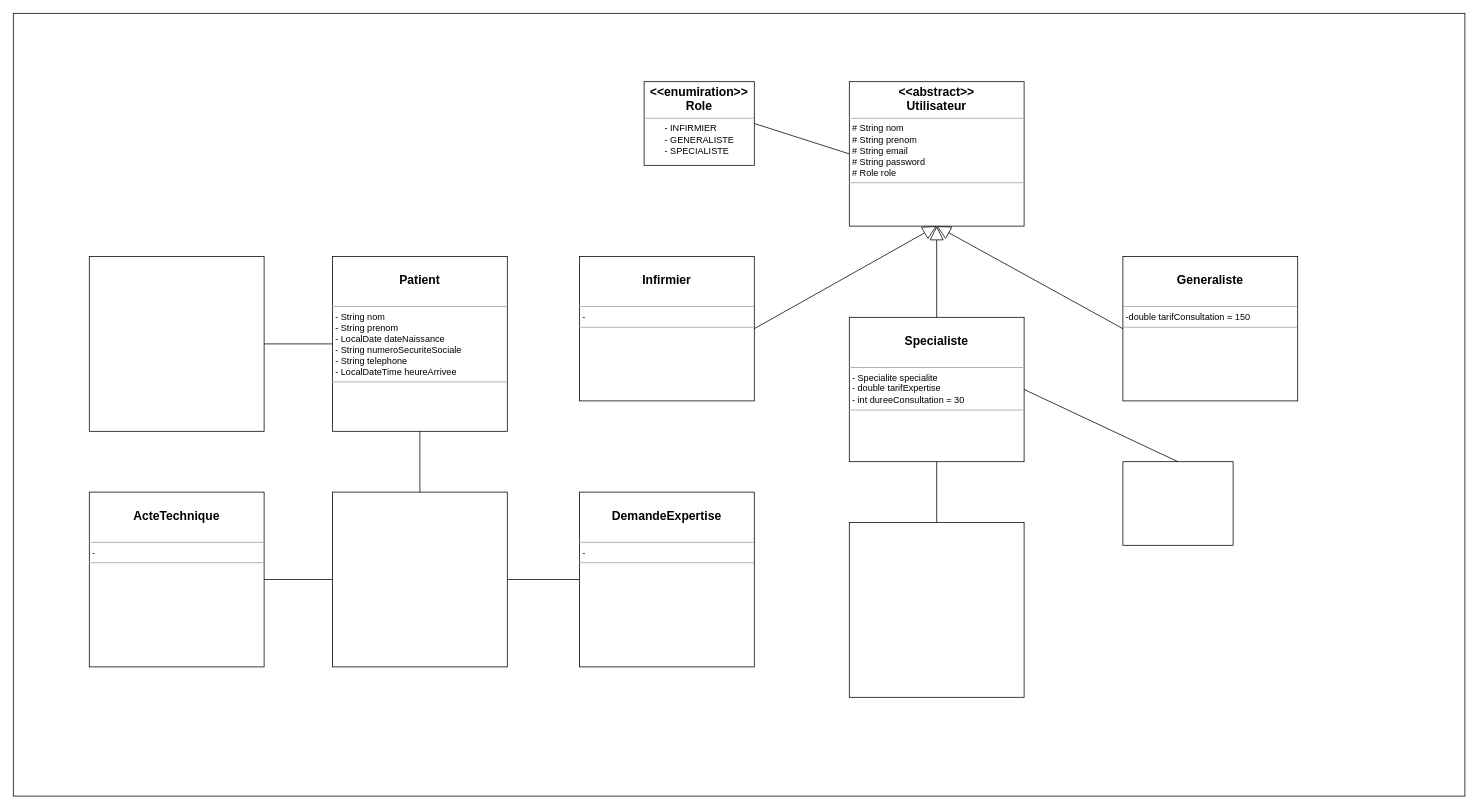
Image size: 1478x809. Some labels were removed from this diagram. Each missing label, with the centre of its shape:
<<enumiration>> Specialite - INFIRMIER - GENERALISTE - SPECIALISTE: point 1177,503
Consultation -: point 419,579
Creneau -: point 936,609
SignesVitaux -: point 176,343
